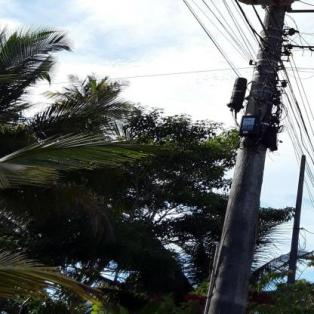Poste: (198, 0, 306, 314)
